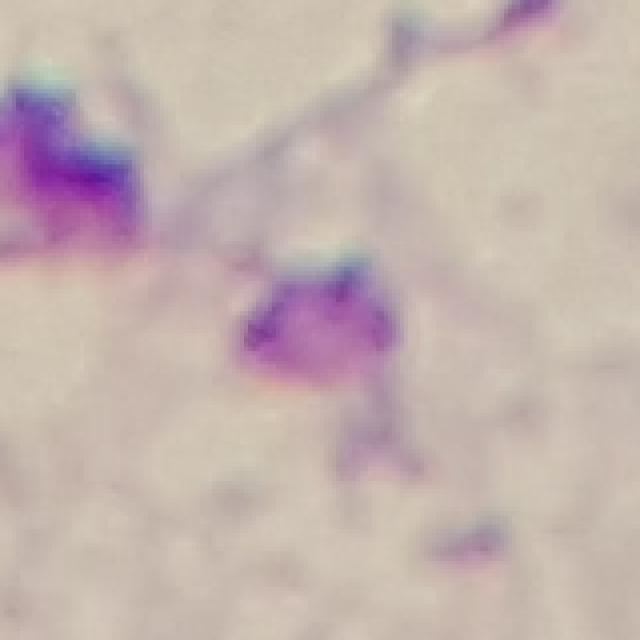non-sperm: (231, 250, 405, 389)
